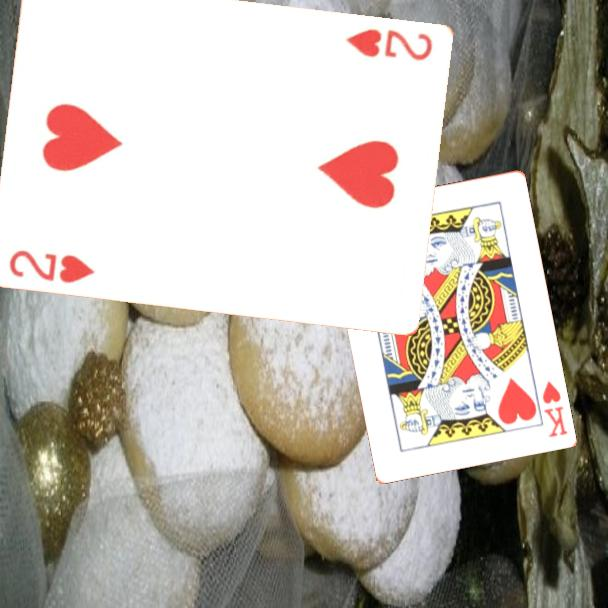h02: (5, 247, 98, 287), (341, 25, 435, 64)
h13: (538, 377, 570, 440)
